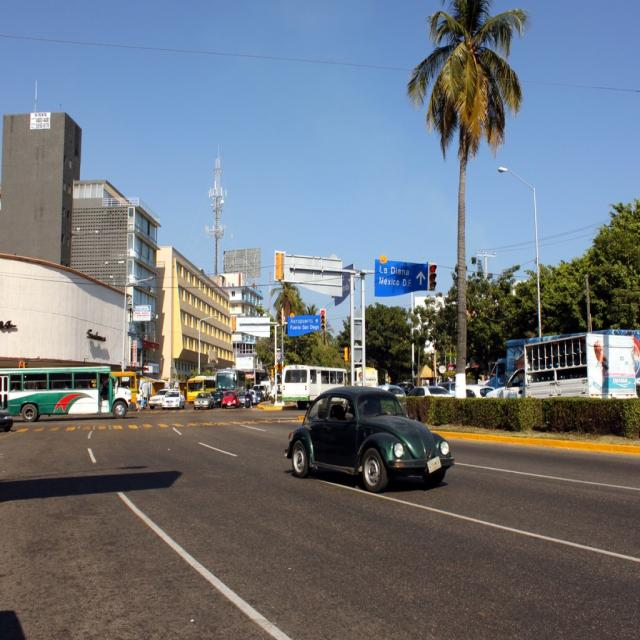car: (280, 386, 452, 492)
